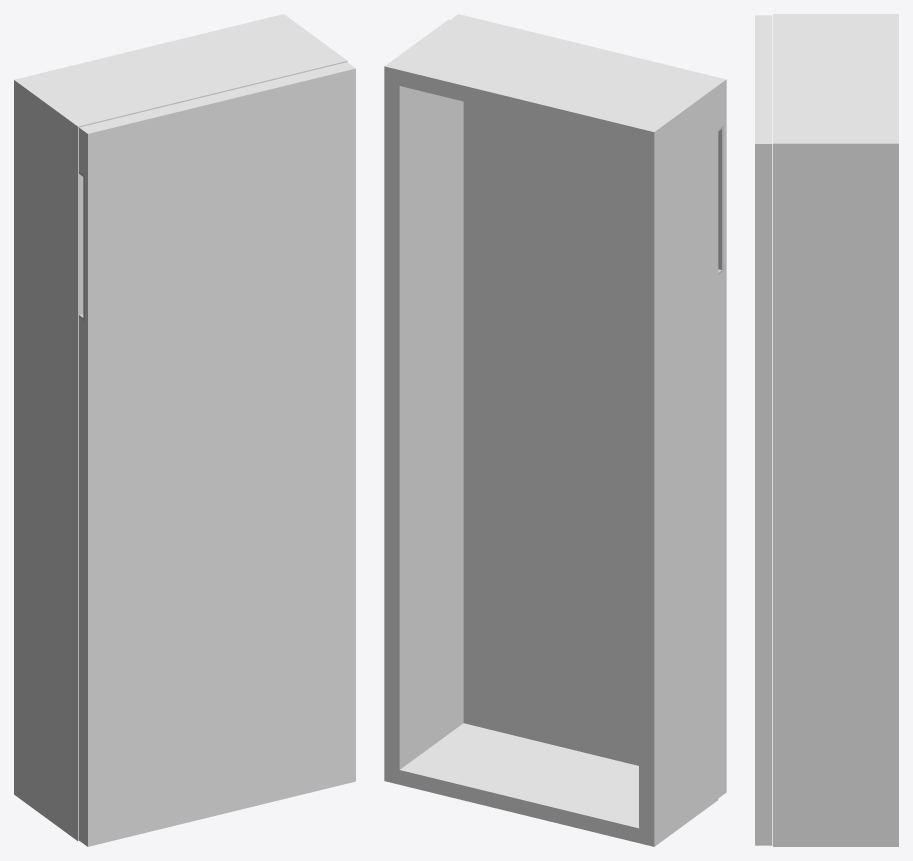
The model's file is AEC_48039.glb.
3 renders of one model, left to right at view 1: azimuth 30°, elevation 25°; view 2: azimuth 150°, elevation 25°; view 3: azimuth 270°, elevation 25°, orthographic.
Parts seen in each view (by area): view 1: 0; view 2: 0; view 3: 0.
Boxes of the visible parts, <box> form: 0: <box>14,14,355,846</box>; 0: <box>384,14,726,846</box>; 0: <box>755,14,898,846</box>.
Bounding box in the file's own units: 0.32 × 0.81 × 0.15.
1 material, 1 textured.
